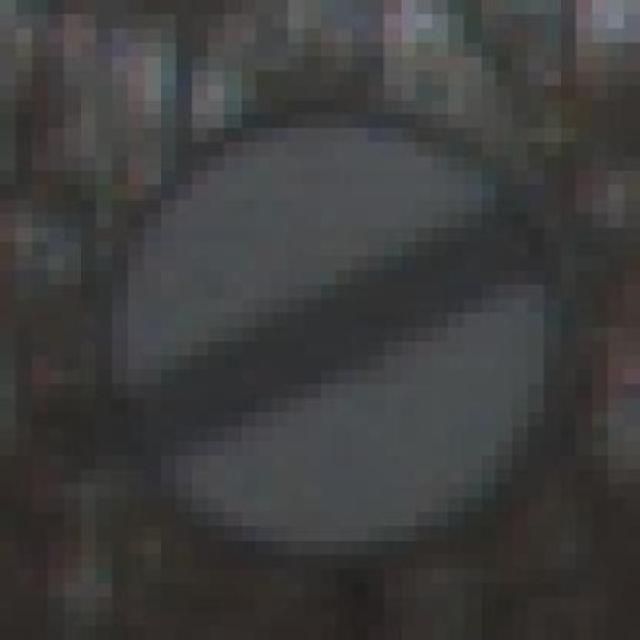End of all speed and passing limits: (48, 100, 592, 568)
